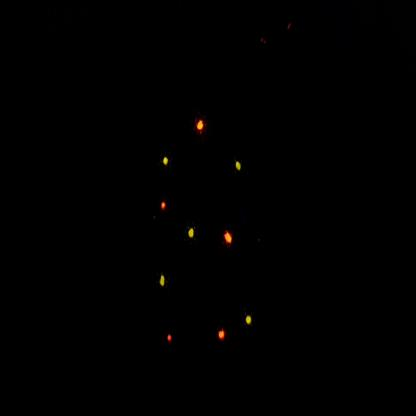PE: (230, 152, 247, 183), (158, 146, 175, 176), (156, 264, 171, 298), (185, 219, 200, 250), (242, 305, 257, 334)
PVC: (192, 109, 212, 145), (220, 226, 239, 257), (215, 318, 230, 354), (157, 193, 171, 221), (164, 326, 177, 354)
